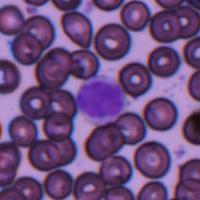L: (76, 75, 127, 125)
